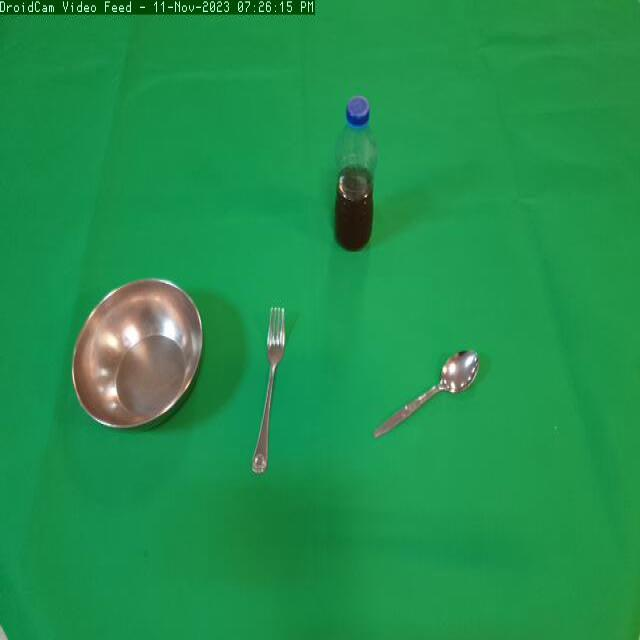bowl: (64, 273, 212, 439)
fork: (242, 291, 306, 488)
fullbottle: (328, 87, 387, 262)
spoon: (367, 335, 485, 441)
